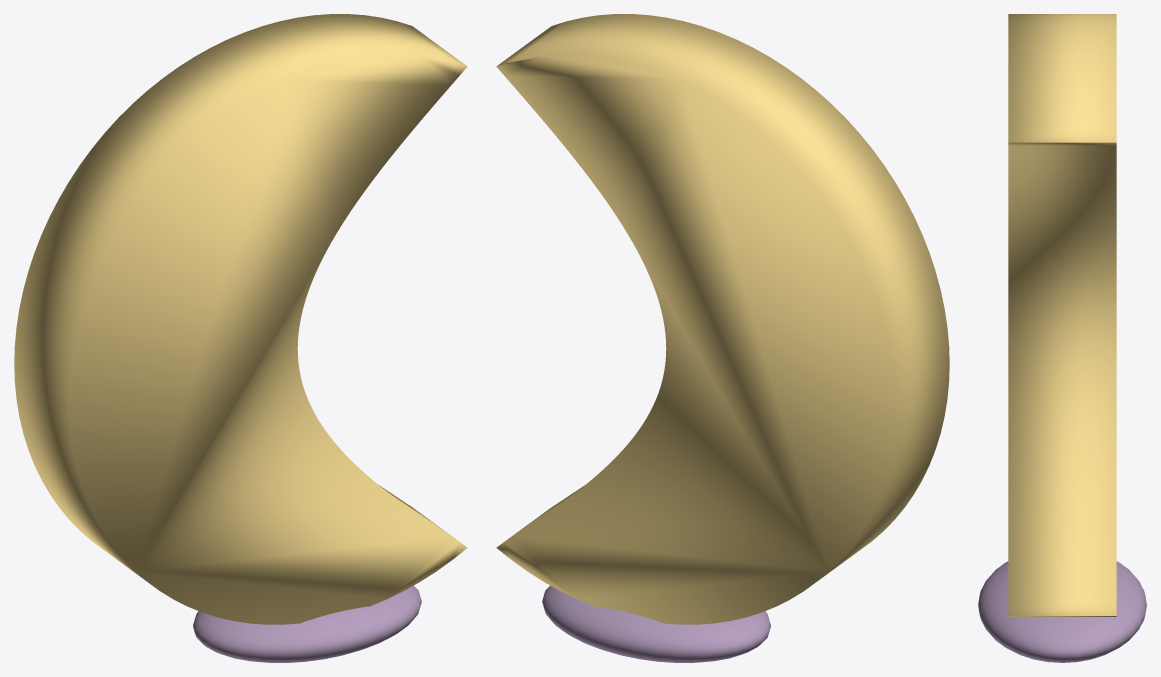
The model's file is 10-moon-crescent.glb.
3 renders of one model, left to right at view 1: azimuth 30°, elevation 25°; view 2: azimuth 150°, elevation 25°; view 3: azimuth 270°, elevation 25°, orthographic.
Parts seen in each view (by area): view 1: moon_crescent, moon_mount; view 2: moon_crescent, moon_mount; view 3: moon_crescent, moon_mount.
Boxes of the visible parts, x1,y1,x2,y2 form: moon_crescent: (14, 14, 467, 624); moon_mount: (193, 585, 421, 662); moon_crescent: (496, 14, 949, 624); moon_mount: (542, 585, 770, 662); moon_crescent: (1008, 14, 1116, 616); moon_mount: (978, 561, 1146, 662).
Bounding box in the file's own units: 0.375 × 0.54 × 0.14.
